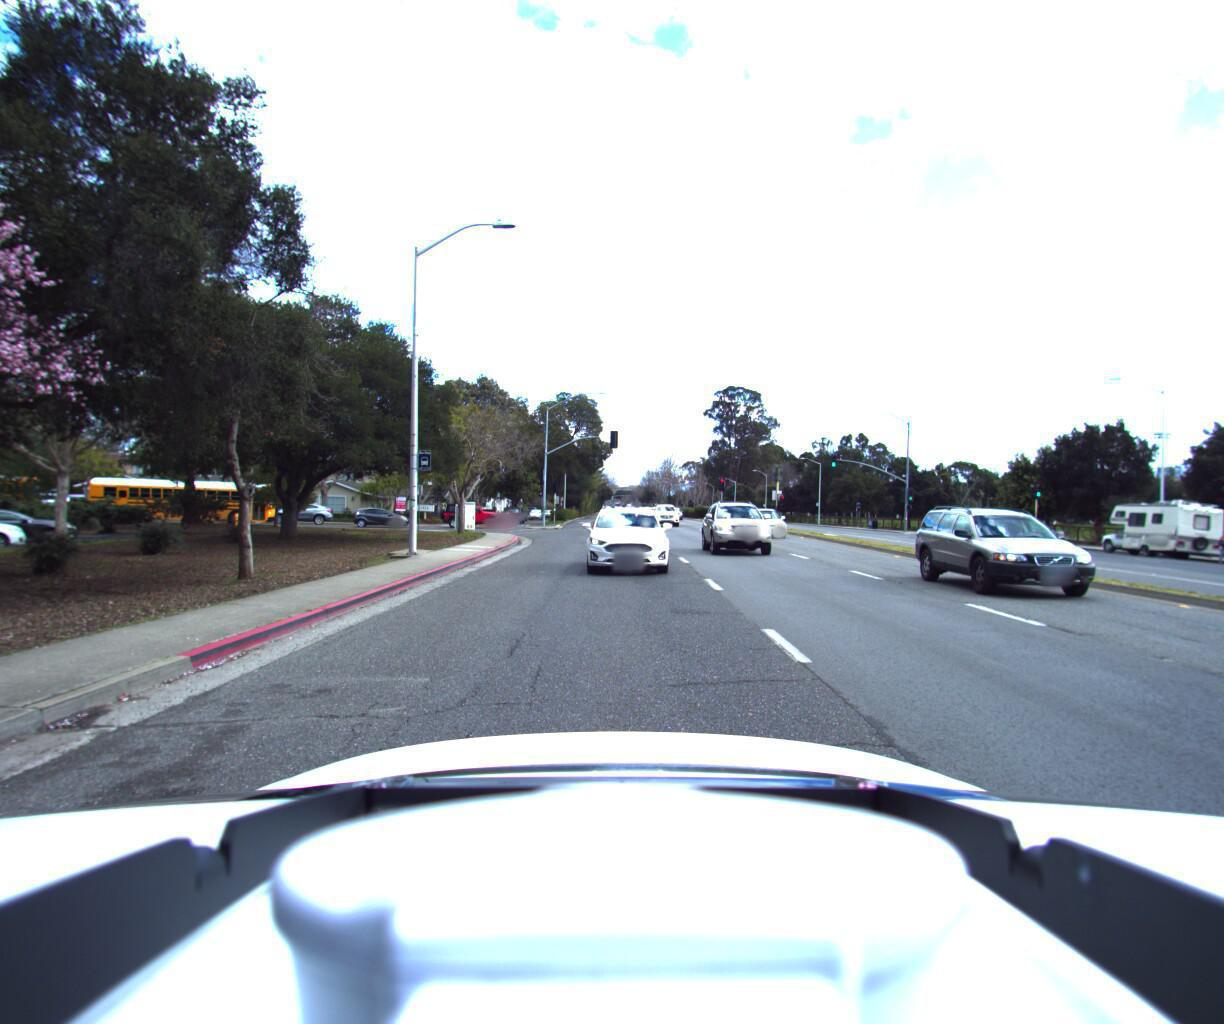bus: (85, 478, 288, 530), (0, 469, 55, 524)
car: (926, 500, 1176, 616), (577, 500, 675, 580), (701, 494, 790, 562), (741, 502, 803, 542), (439, 503, 507, 531), (271, 503, 341, 529), (352, 508, 411, 530), (652, 507, 684, 533), (494, 513, 521, 529), (1218, 530, 1224, 580)
other_vehicle: (1088, 498, 1224, 565)
